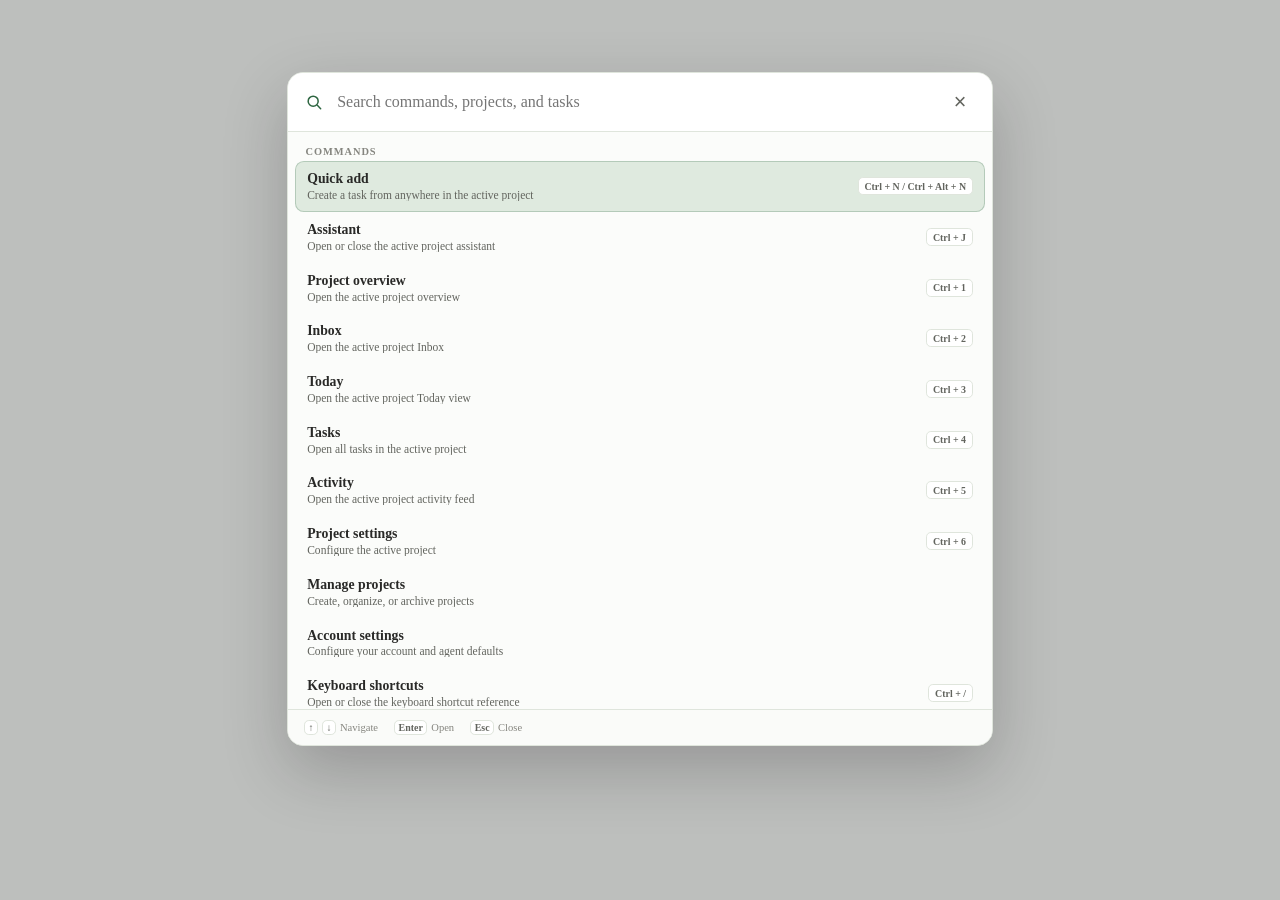
Test: CommandPalette › keeps local results when task search fails and reports an empty state after a later query
Type "settings" into the dropdown labelled "Search commands, projects, and tasks" at (634, 102), box [335, 92, 933, 112]
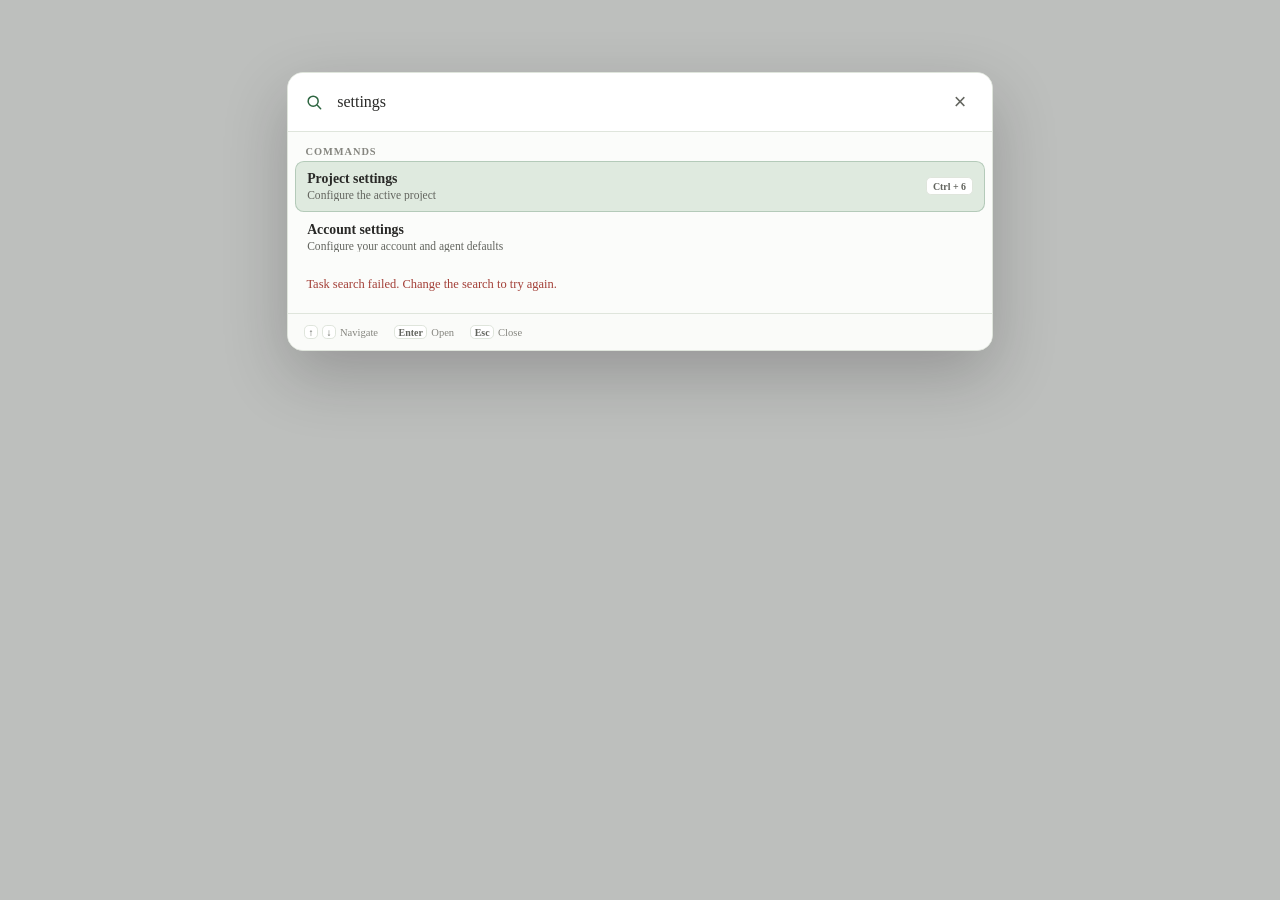
Expected: the option "Project settings Configure the active project Ctrl + 6" is shown, [295, 161, 985, 212]
Now the text "Task search failed. Change the search to try again." is shown, box [306, 277, 557, 291]
Replace the text in the dropdown named "Search commands, projects, and tasks" with "nothing matches this" at (634, 102), box [335, 92, 933, 112]
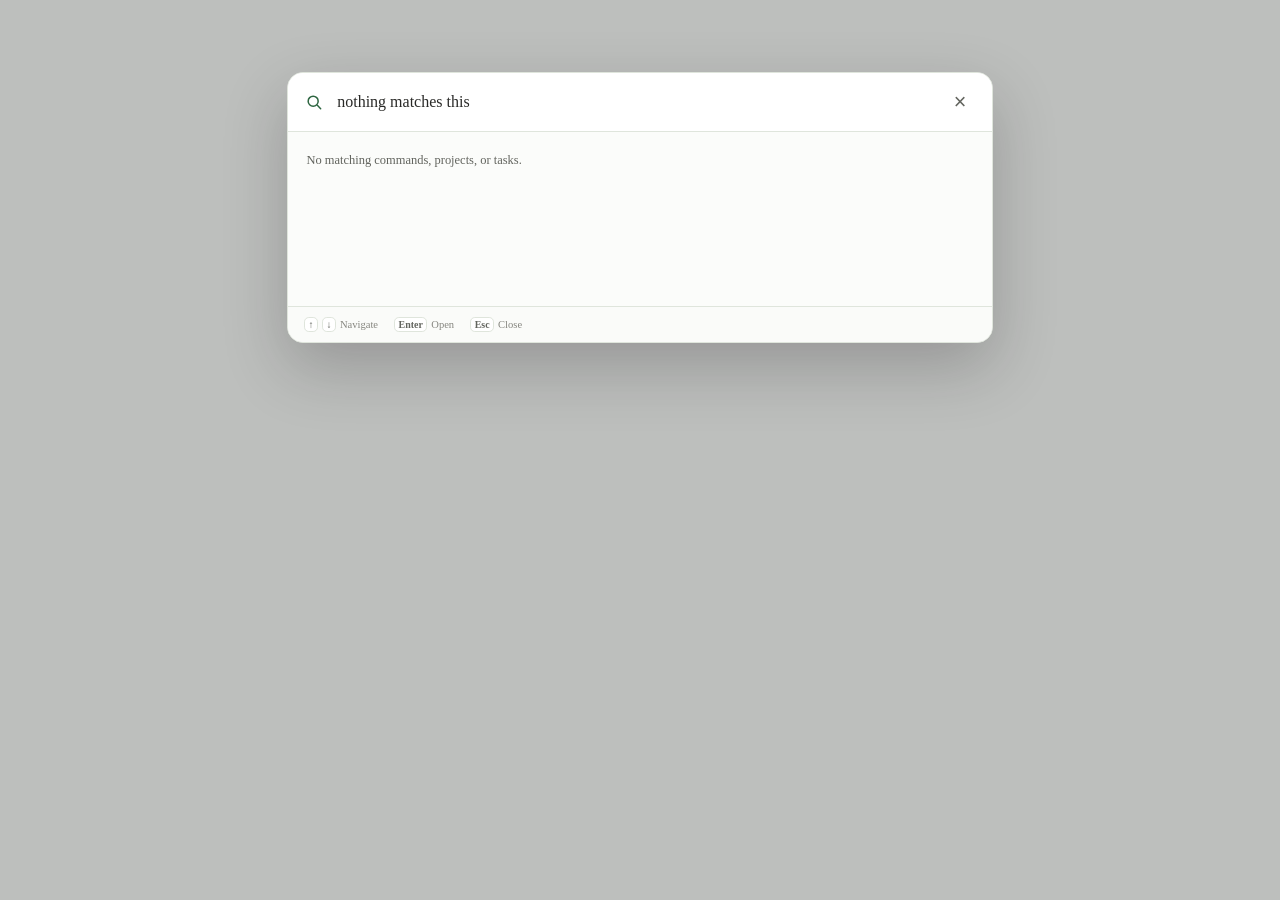
Now the text "No matching commands, projects, or tasks." is shown, box [306, 153, 522, 167]
